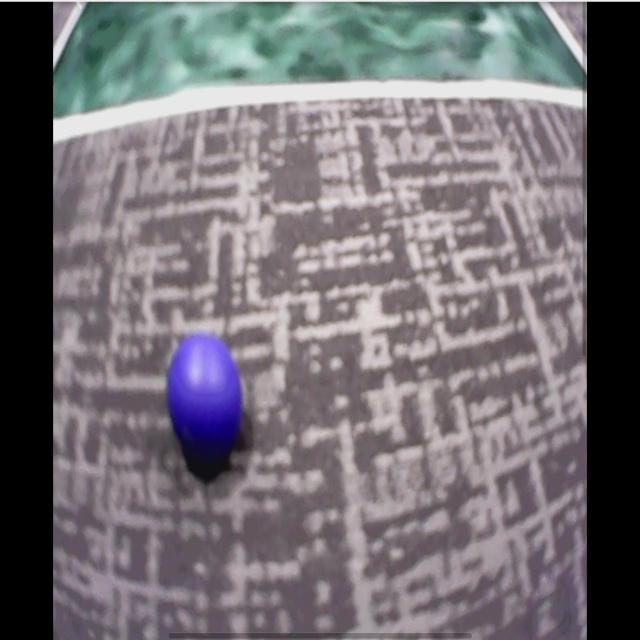ball: (168, 336, 242, 450)
